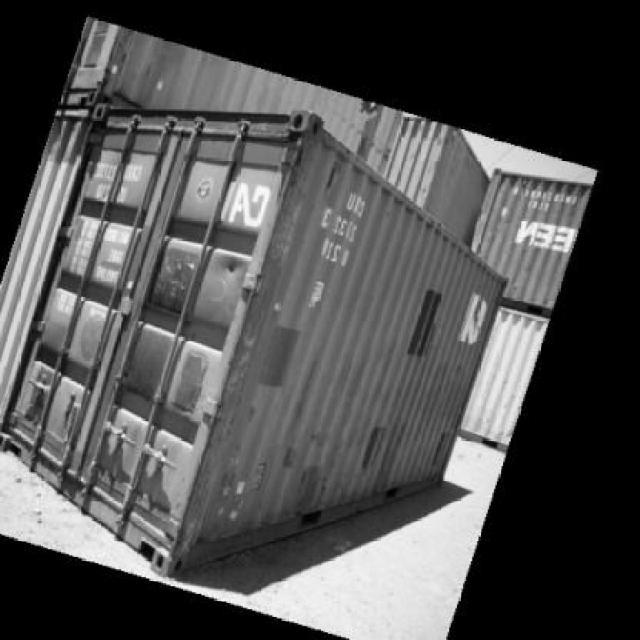hole: (220, 245, 250, 302)
